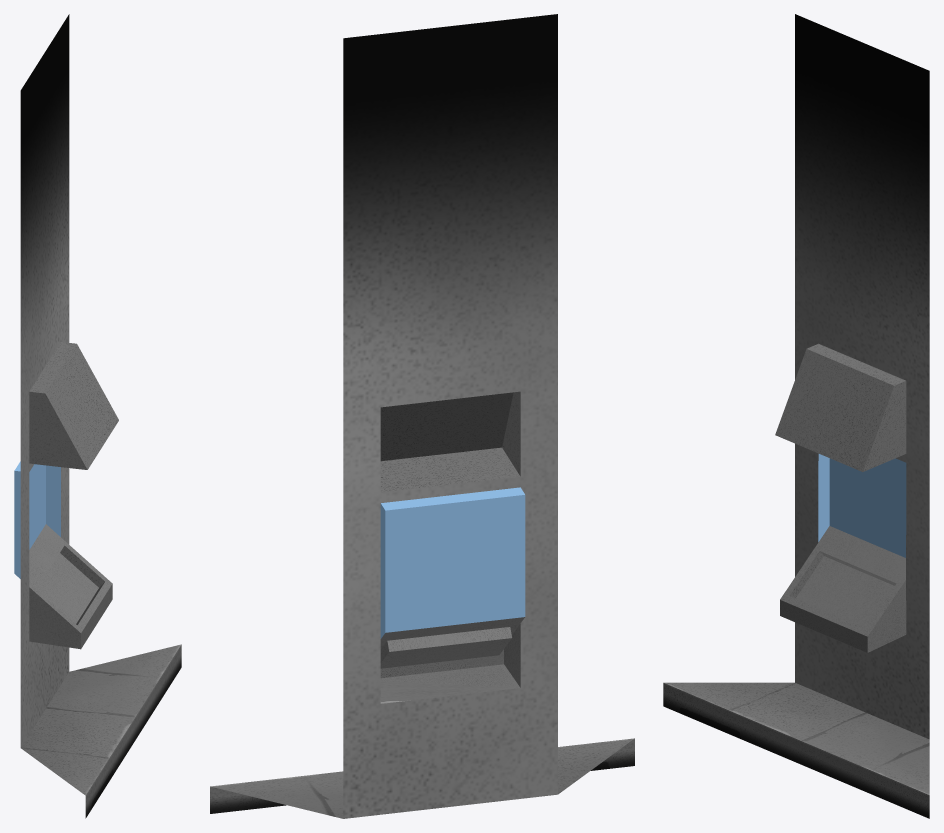
Rendered from StorefrontOuterCornerB.FBX.
3 views of the same model, side by side, from view 1: azimuth 30°, elevation 25°; view 2: azimuth 150°, elevation 25°; view 3: azimuth 270°, elevation 25° (orthographic). The views are drawn at different scales.
Visible parts, largest first — view 1: StorefrontOuterCornerB; view 2: StorefrontOuterCornerB; view 3: StorefrontOuterCornerB.
Boxes of the visible parts, <box> form: StorefrontOuterCornerB: <box>14,14,181,818</box>; StorefrontOuterCornerB: <box>210,14,634,818</box>; StorefrontOuterCornerB: <box>663,14,929,818</box>.
Bounding box in the file's own units: 1.06 × 1.06 × 3.04.
Materials: 2 (2 with a texture image).
